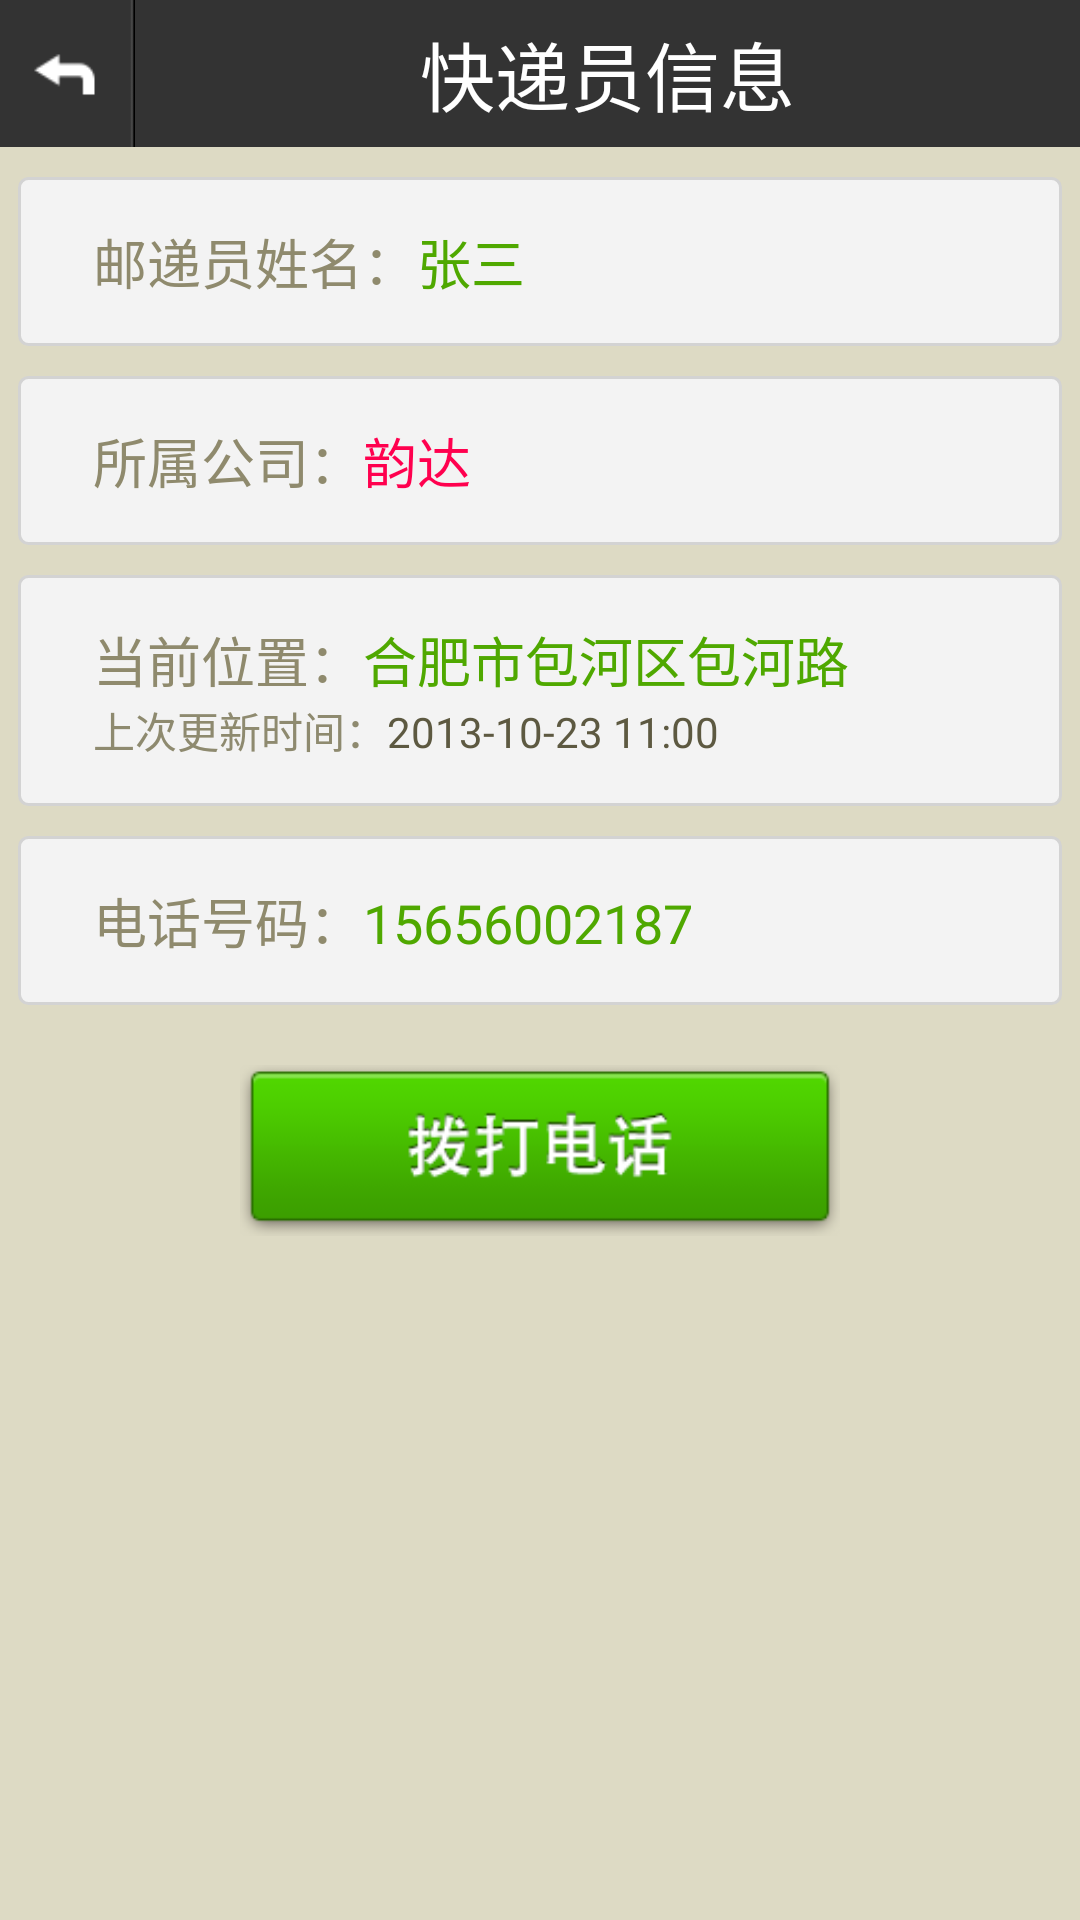

Where to tap for icons on this 1080x1920 app screen, as point (x, y):
back: point (67, 73)
